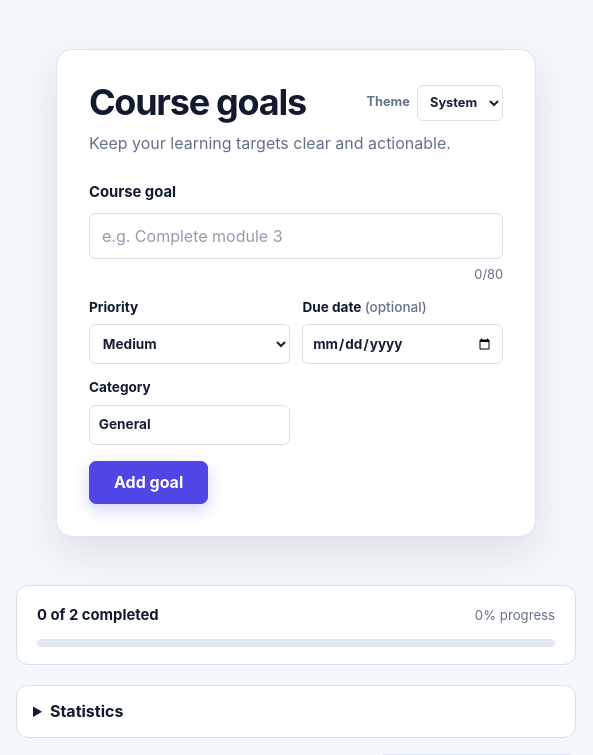
Test: Course Goals › adds priority and due-date metadata
Select "High" in the dropdown labelled "Priority" at point(189, 344), box [89,324,290,364]
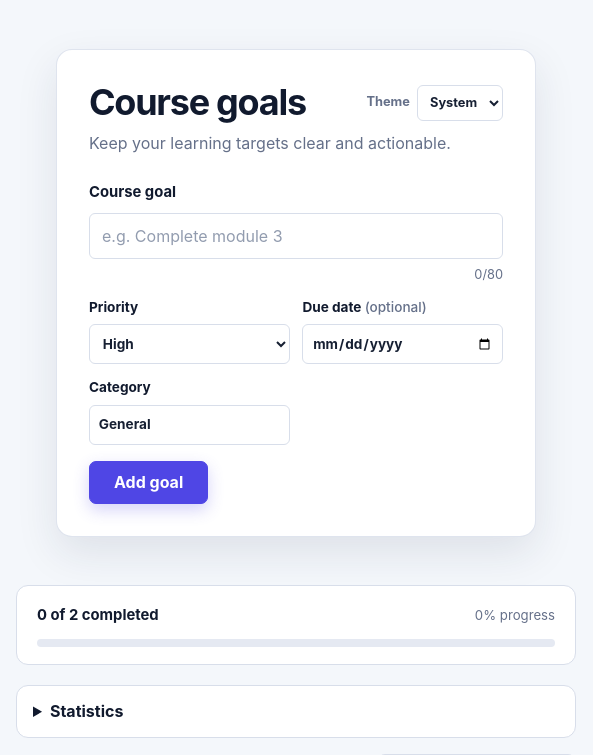
Type "2027-01-15" into the date field labelled "Due date (optional)" at point(403, 344), box [302,324,503,364]
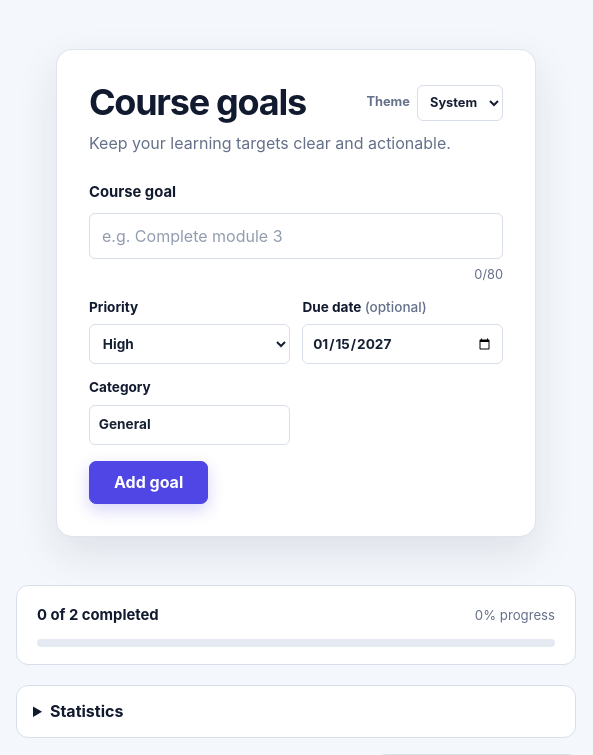
Type "Ship the capstone" into the field with placeholder "e.g. Complete module 3" at point(296, 236), box [89,213,503,260]
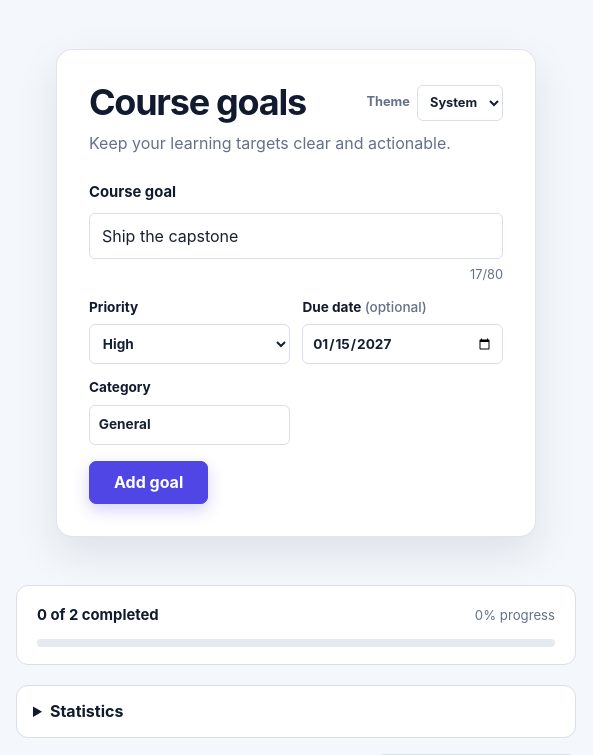
Click the button "Add goal" at point(149, 482), box [89,460,208,504]
(page scrolled)
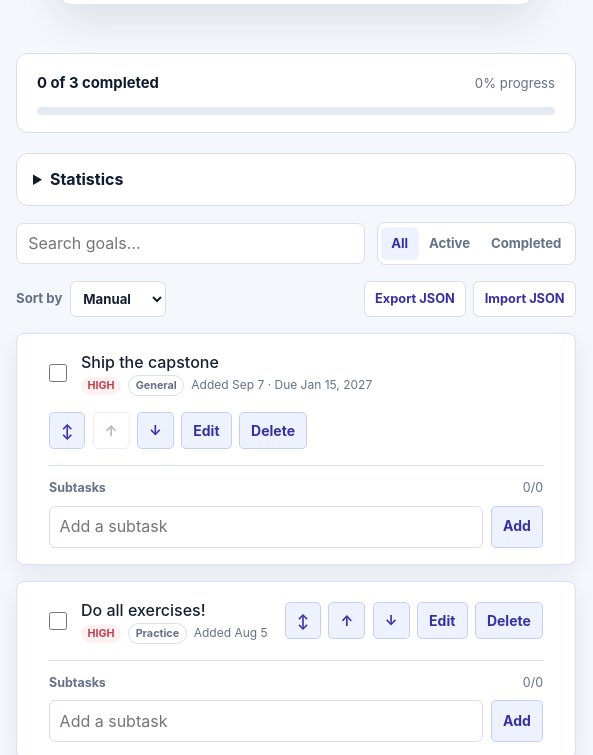
Check: the text "high" next to "General" is shown, box [87,379,115,392]
Check: the text "· Due Jan 15, 2027" is shown, box [264,377,372,392]
